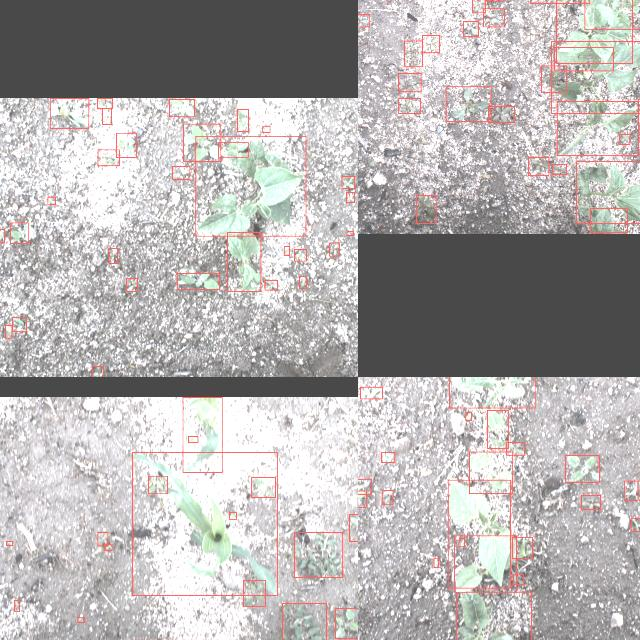crop: (132, 452, 278, 594), (196, 136, 306, 236), (448, 479, 510, 587), (551, 41, 640, 113), (556, 0, 632, 63), (558, 100, 638, 156), (576, 161, 640, 223), (456, 592, 531, 640), (454, 535, 516, 591), (182, 396, 222, 472), (449, 377, 535, 406), (227, 232, 261, 290), (469, 451, 513, 493), (590, 208, 628, 232), (488, 409, 508, 447)
weed: (294, 532, 342, 576), (282, 602, 326, 640), (446, 86, 490, 122), (585, 0, 640, 28), (183, 123, 221, 161), (554, 47, 614, 71), (50, 97, 88, 127), (565, 454, 599, 482), (177, 272, 219, 290), (336, 608, 358, 638), (542, 65, 566, 91), (243, 580, 265, 606), (416, 195, 436, 223), (116, 132, 136, 156), (251, 477, 275, 497), (404, 40, 422, 66), (398, 72, 422, 91), (512, 536, 532, 558), (218, 142, 248, 156), (488, 106, 514, 122), (170, 98, 194, 115), (529, 157, 549, 176), (10, 222, 28, 242), (484, 8, 504, 26), (148, 475, 168, 493), (98, 149, 119, 165), (422, 34, 440, 52), (581, 494, 601, 510), (398, 98, 420, 112), (624, 480, 638, 500), (360, 386, 382, 398), (349, 513, 358, 540), (464, 20, 478, 36), (238, 108, 248, 130), (172, 166, 190, 178), (506, 442, 524, 454), (12, 317, 26, 331), (358, 478, 370, 493), (294, 248, 306, 260), (126, 278, 138, 290), (102, 107, 111, 123), (342, 176, 354, 188), (472, 0, 485, 11), (98, 97, 112, 107), (553, 164, 567, 174), (98, 531, 108, 545), (381, 452, 395, 462), (382, 489, 392, 503), (92, 365, 103, 377), (358, 14, 369, 26), (329, 242, 339, 255), (358, 490, 366, 506), (109, 248, 118, 262), (631, 517, 640, 531), (265, 280, 277, 290), (512, 574, 524, 584), (620, 134, 630, 144), (6, 324, 12, 338), (346, 191, 354, 201), (300, 276, 306, 288), (14, 599, 20, 611), (0, 228, 5, 241), (48, 196, 56, 204), (188, 436, 198, 442), (284, 246, 290, 254), (262, 126, 270, 132), (229, 512, 237, 518), (104, 543, 112, 549), (466, 412, 472, 420), (459, 538, 465, 546), (434, 557, 438, 567), (78, 616, 84, 622), (6, 540, 12, 546), (347, 231, 353, 235)
